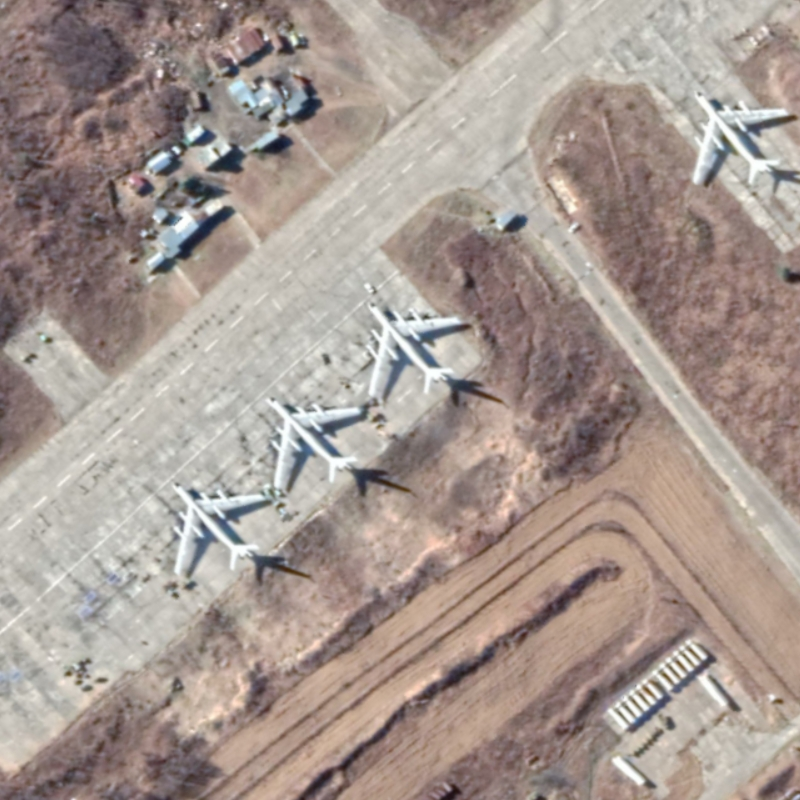A17: (360, 292, 466, 403), (687, 87, 795, 190), (165, 478, 272, 579), (261, 393, 367, 493)
